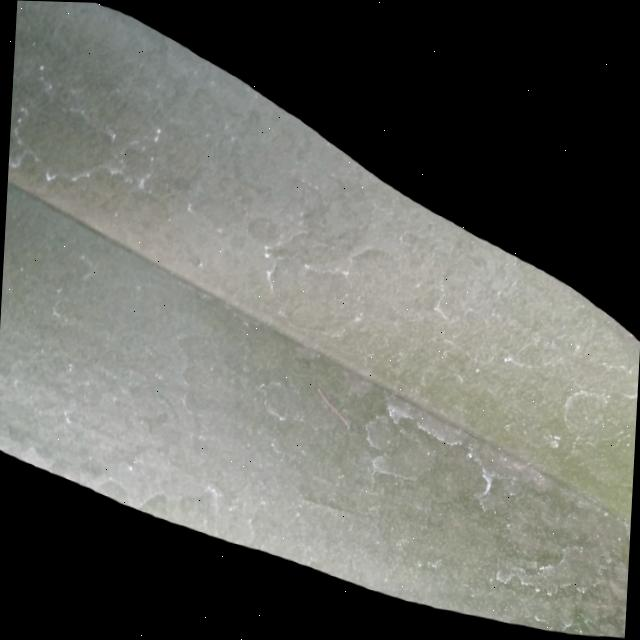mite: (248, 342, 637, 624), (356, 400, 497, 509), (360, 409, 441, 482), (417, 443, 495, 509), (538, 381, 606, 454), (530, 414, 575, 460), (362, 410, 402, 453), (244, 213, 282, 244), (540, 425, 567, 450), (545, 428, 563, 447), (191, 254, 206, 269)
sunburn: (0, 0, 640, 637)
